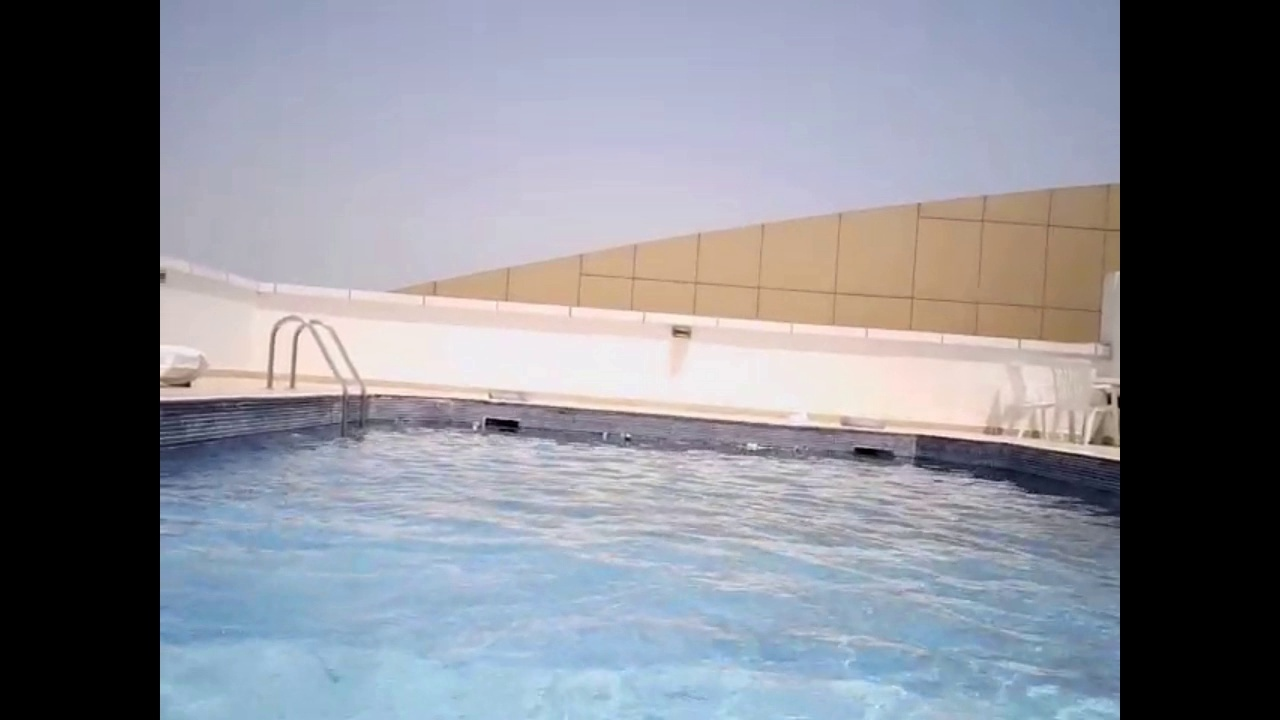debris: (613, 425, 635, 449), (738, 439, 764, 456), (593, 425, 616, 444), (464, 415, 483, 433)
